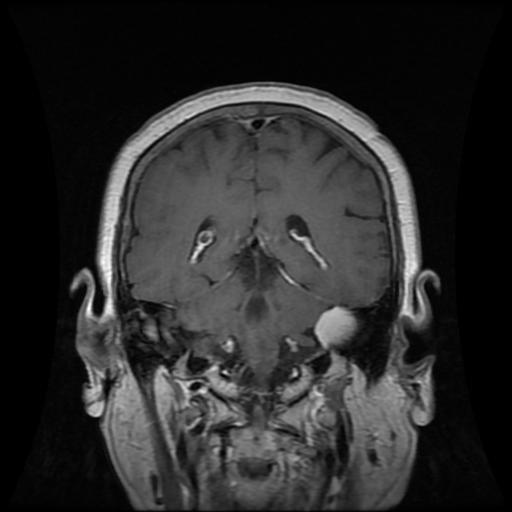Menigiomia_tumour: (312, 303, 356, 350)
